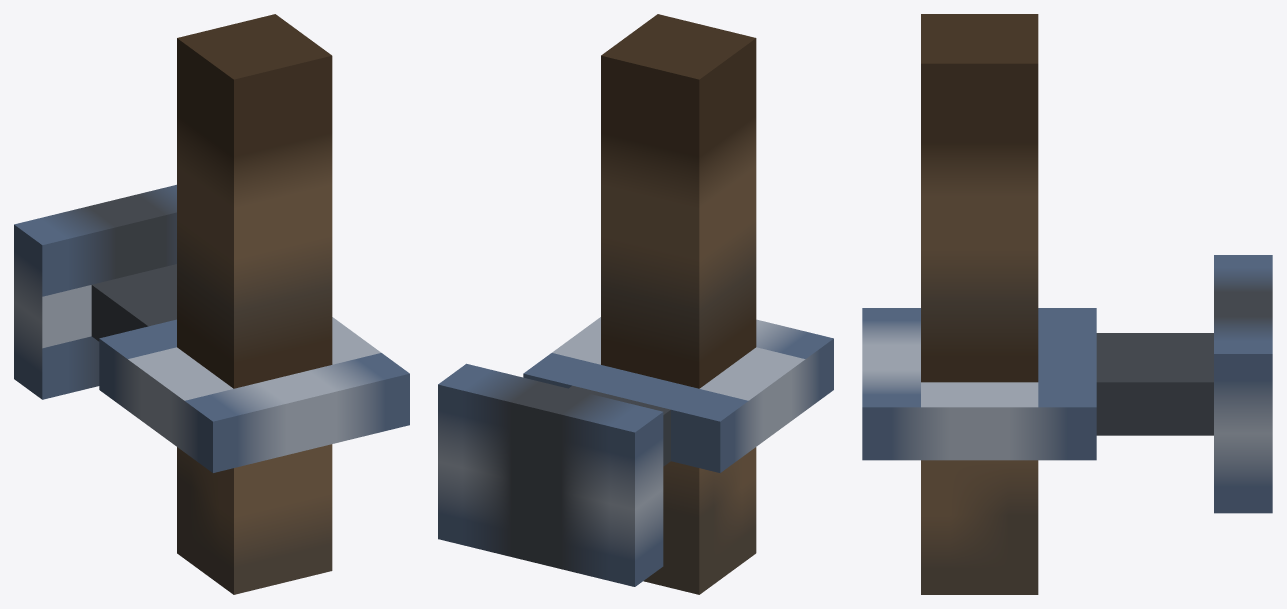
File: torch1.fbx
The picture shows the model from 3 angles, left to right: view 1: azimuth 30°, elevation 25°; view 2: azimuth 150°, elevation 25°; view 3: azimuth 270°, elevation 25°; orthographic projection. The views are drawn at different scales.
Visible parts, largest first — view 1: torch1; view 2: torch1; view 3: torch1.
Part boxes in pixels (x1,y1,x2,y2): torch1: [14, 14, 409, 594]; torch1: [438, 14, 833, 594]; torch1: [862, 14, 1272, 594].
Size of the model in its own units: 4 by 10 by 7.
Materials: 1 (1 with a texture image).
